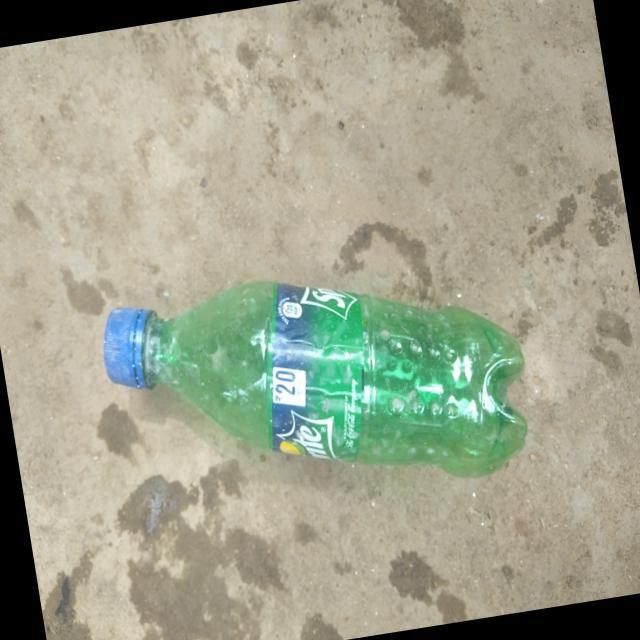good: (89, 233, 544, 526)
